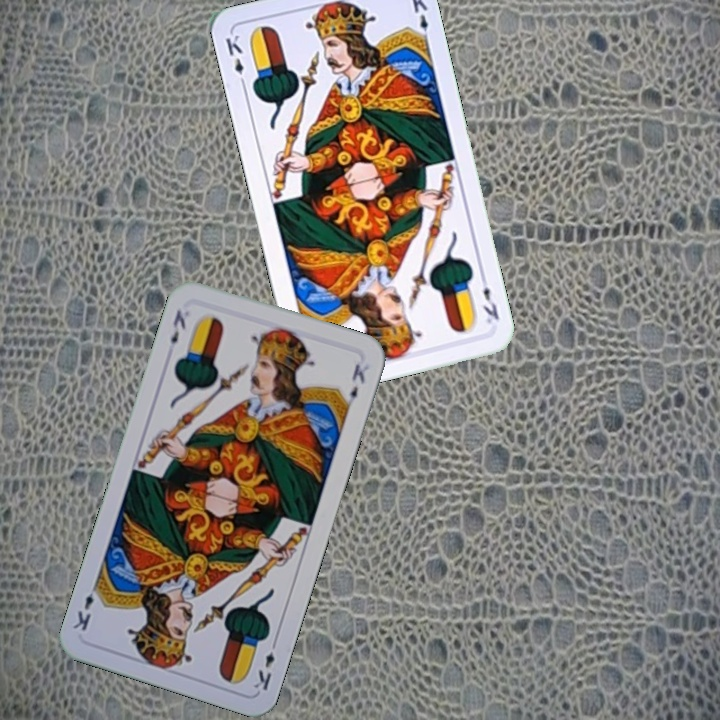EK: (250, 635, 280, 693), (221, 30, 249, 90), (476, 270, 502, 327), (166, 305, 189, 346)
